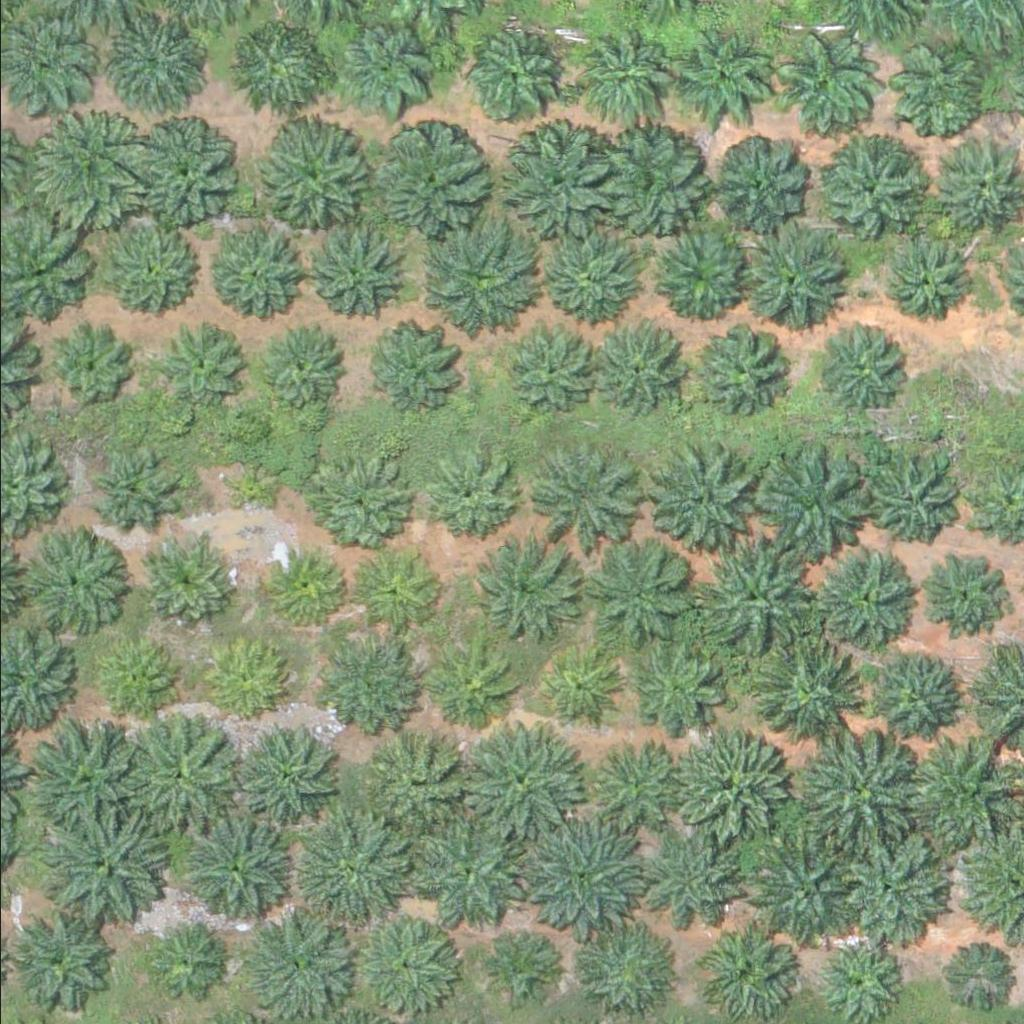Kelapa_Sawit: (117, 719, 243, 844), (32, 718, 158, 843), (50, 806, 176, 931), (749, 632, 863, 745), (294, 814, 407, 927), (528, 818, 641, 931), (900, 739, 1013, 852), (799, 730, 912, 843), (679, 727, 792, 840), (619, 625, 732, 738), (425, 224, 538, 337), (498, 122, 611, 235), (460, 735, 574, 847), (584, 537, 698, 649), (468, 534, 582, 646), (752, 443, 866, 555), (29, 114, 143, 226), (236, 909, 350, 1021), (410, 817, 523, 929), (748, 836, 861, 948), (835, 831, 948, 943), (694, 542, 807, 654), (737, 218, 850, 330), (809, 135, 922, 247), (590, 128, 703, 240), (179, 809, 292, 921), (653, 834, 754, 934), (869, 654, 970, 754), (533, 438, 634, 538), (805, 314, 906, 414), (584, 319, 685, 419), (495, 320, 596, 420), (543, 229, 644, 329), (651, 221, 752, 321), (386, 124, 487, 224), (327, 18, 428, 118), (462, 29, 563, 129), (566, 29, 667, 129), (672, 24, 773, 124), (775, 39, 876, 139), (133, 125, 234, 225), (692, 923, 792, 1023), (371, 738, 471, 838), (816, 551, 916, 651), (314, 447, 414, 547), (647, 442, 747, 542), (863, 447, 963, 547), (691, 323, 791, 423), (710, 133, 810, 233), (898, 43, 998, 143), (265, 130, 365, 230), (96, 14, 196, 114), (101, 223, 201, 323), (25, 537, 125, 637), (3, 919, 103, 1019), (322, 637, 411, 725), (536, 644, 624, 732), (814, 934, 902, 1022), (590, 733, 678, 821), (424, 636, 512, 724), (922, 545, 1010, 633), (428, 447, 516, 535), (314, 231, 402, 319), (882, 230, 970, 318), (226, 31, 314, 119), (263, 547, 351, 635), (261, 328, 350, 415), (583, 928, 671, 1015), (348, 549, 436, 636), (369, 324, 457, 411), (206, 234, 294, 321), (241, 734, 329, 821), (933, 935, 1009, 1010), (102, 646, 178, 721), (145, 543, 221, 618), (206, 644, 282, 719), (143, 929, 219, 1004), (47, 327, 122, 402), (163, 327, 238, 402), (96, 461, 171, 536), (489, 937, 552, 1000), (219, 458, 269, 508)
